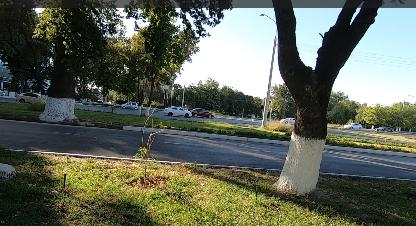car: (164, 105, 192, 119), (190, 107, 216, 120), (119, 101, 140, 111)
tree: (262, 0, 383, 199), (35, 2, 111, 128)
